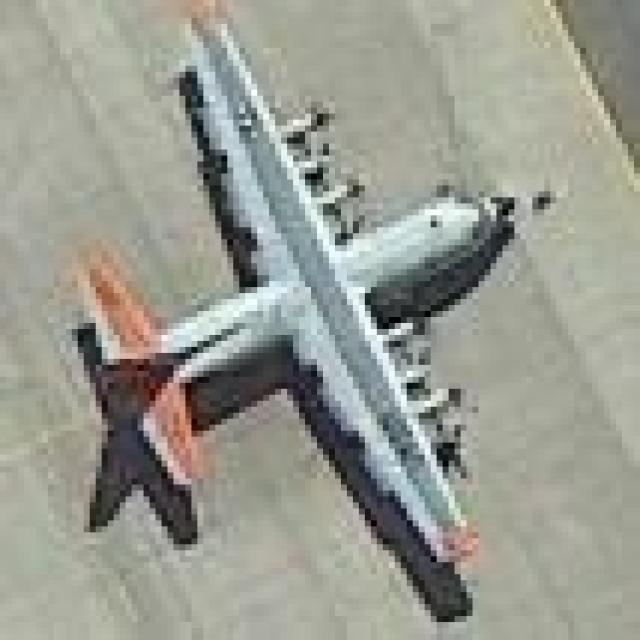C-130_TopDown: (66, 5, 524, 624)
